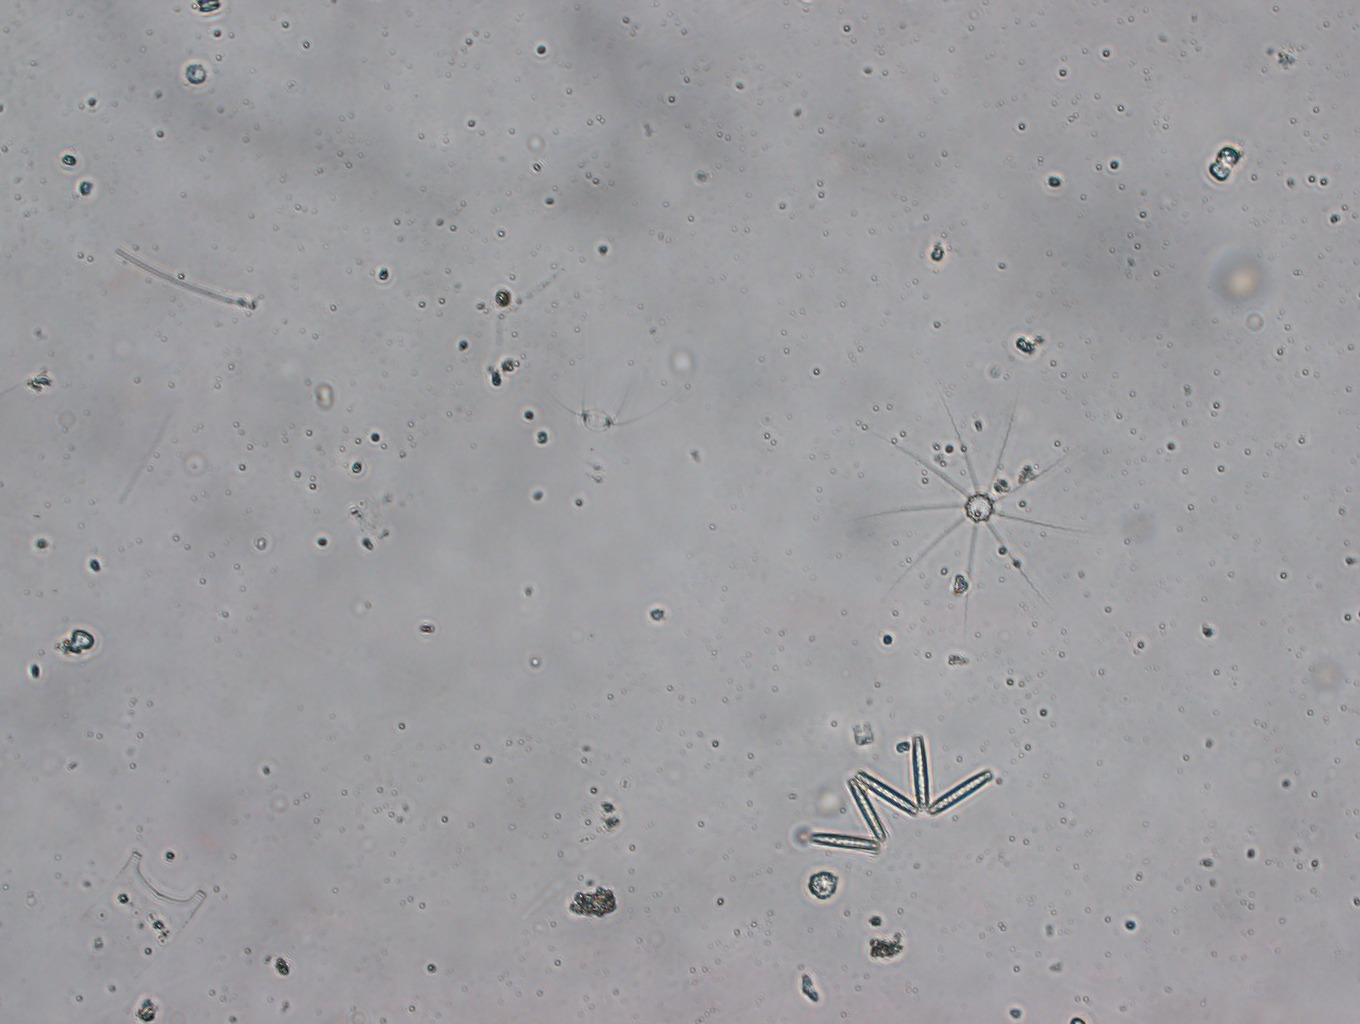bacteriastrum: (864, 401, 1100, 618)
thalassionema nitzschioides: (801, 730, 994, 865)
